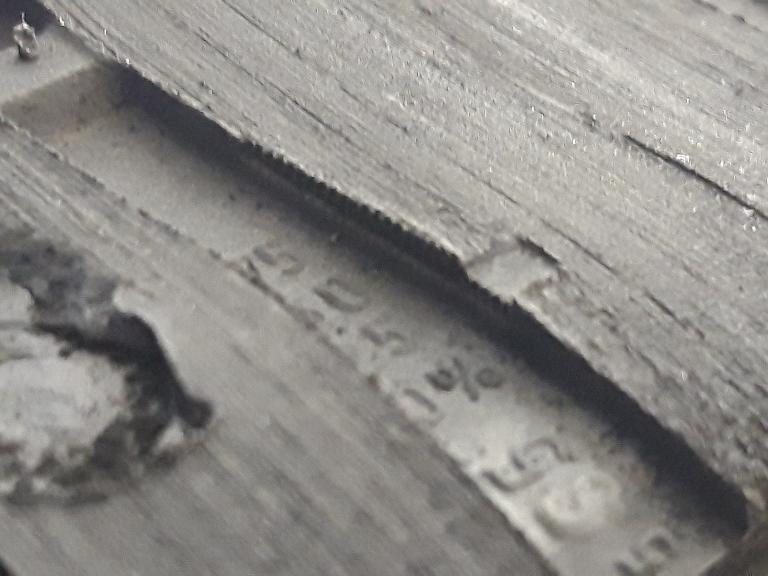temoin:0: (421, 208, 577, 335)
